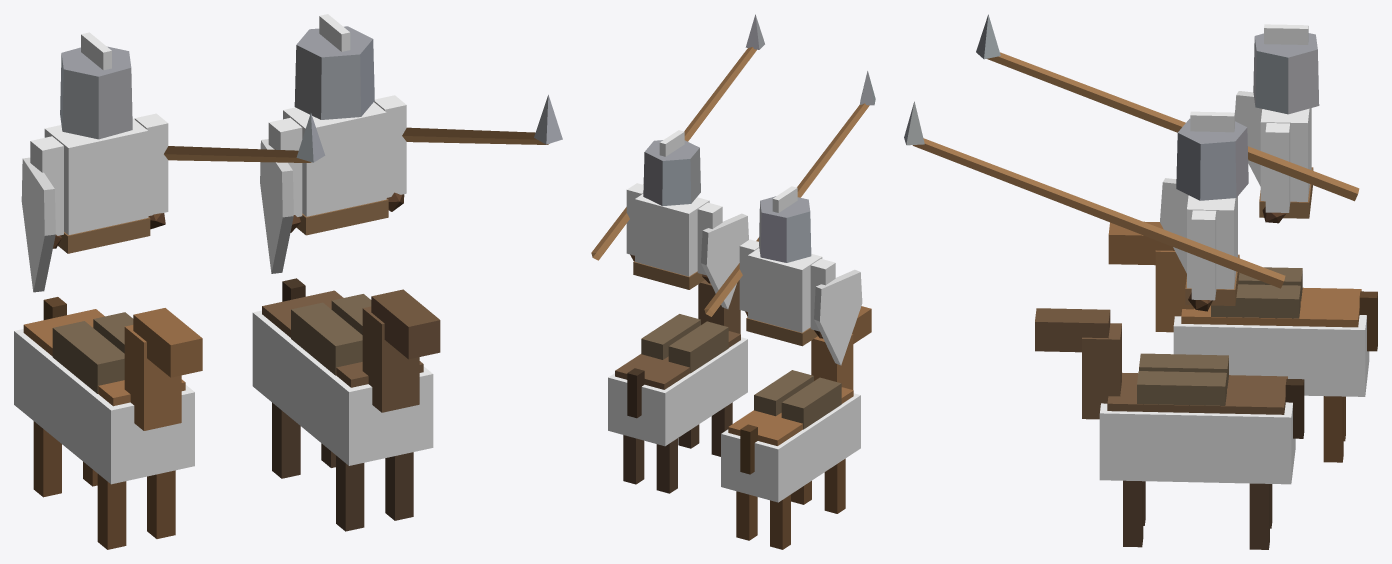
File: Knight.glb
The picture shows the model from 3 angles, left to right: view 1: azimuth 30°, elevation 25°; view 2: azimuth 150°, elevation 25°; view 3: azimuth 270°, elevation 25°; orthographic projection. The views are drawn at different scales.
Visible parts, largest first — view 1: Units_Knight; view 2: Units_Knight; view 3: Units_Knight.
Boxes of the visible parts, x1,y1,x2,y2 form: Units_Knight: [14, 14, 562, 549]; Units_Knight: [591, 14, 875, 549]; Units_Knight: [904, 14, 1377, 549].
Size of the model in its own units: 0.2479 by 0.34 by 0.3213.
